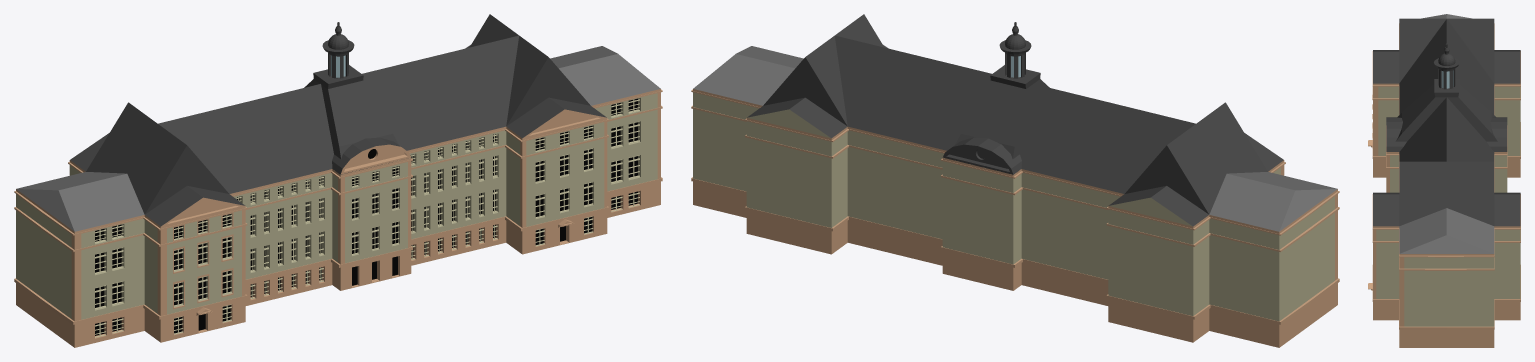
The model's file is iut.fbx.
The picture shows the model from 3 angles, left to right: view 1: azimuth 30°, elevation 25°; view 2: azimuth 150°, elevation 25°; view 3: azimuth 270°, elevation 25°; orthographic projection. The views are drawn at different scales.
Visible parts, largest first — view 1: Cube, Circle.001, Cylinder, Cube.001; view 2: Cube, Circle, Cylinder, Cube.001; view 3: Cube, Circle, Circle.001, Cylinder, Cube.001.
Part boxes in pixels (<box>): Cube: <box>14,14,662,347</box>; Circle.001: <box>321,80,410,174</box>; Cylinder: <box>322,22,354,78</box>; Cube.001: <box>313,65,363,88</box>; Cube: <box>691,14,1339,347</box>; Circle: <box>943,80,1032,174</box>; Cylinder: <box>999,22,1031,78</box>; Cube.001: <box>990,65,1040,88</box>; Cube: <box>1372,14,1520,347</box>; Circle: <box>1447,84,1507,151</box>; Circle.001: <box>1386,84,1445,151</box>; Cylinder: <box>1434,43,1459,89</box>; Cube.001: <box>1434,79,1459,97</box>.
Bounding box in the file's own units: 21116 × 7934 × 5840.
